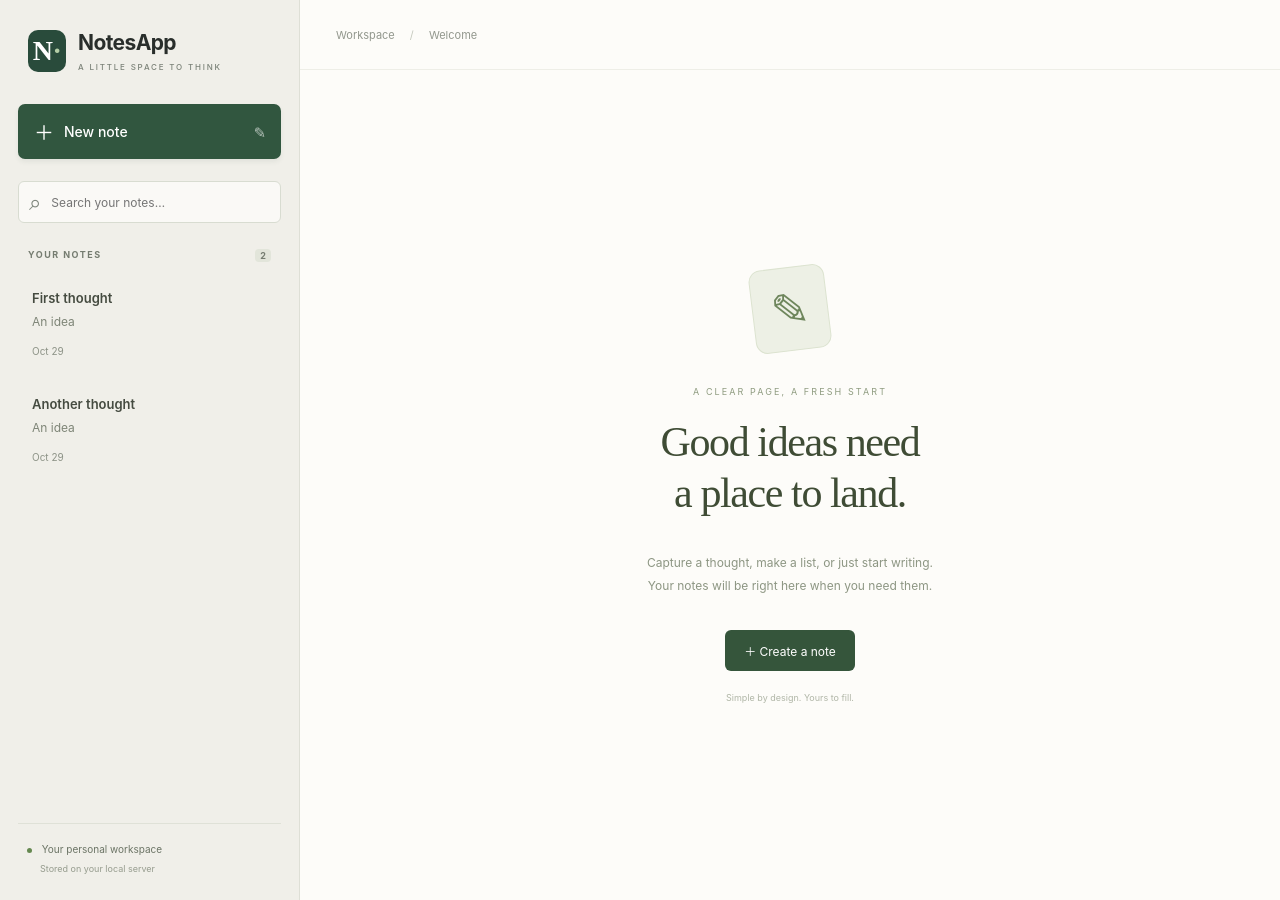
Test: Notes workspace › serializes edits made during a save and uses the returned version
Step 1. Click the button "First thought An idea Oct 29" → (72, 298), box [18,274,281,374]
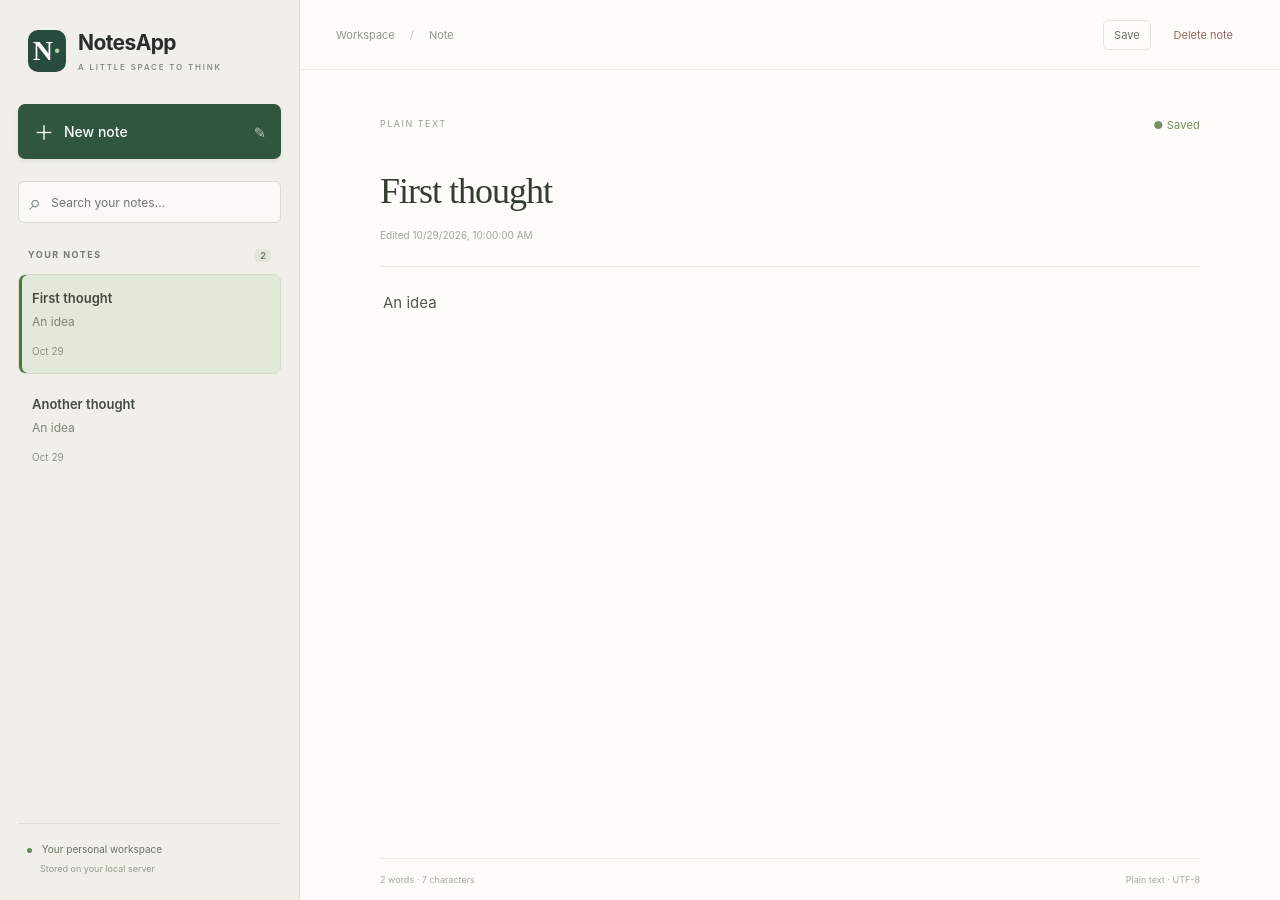
Step 2. Replace the text in the text box named "Note body" with "First edit" → (790, 574), box [380,289,1200,858]
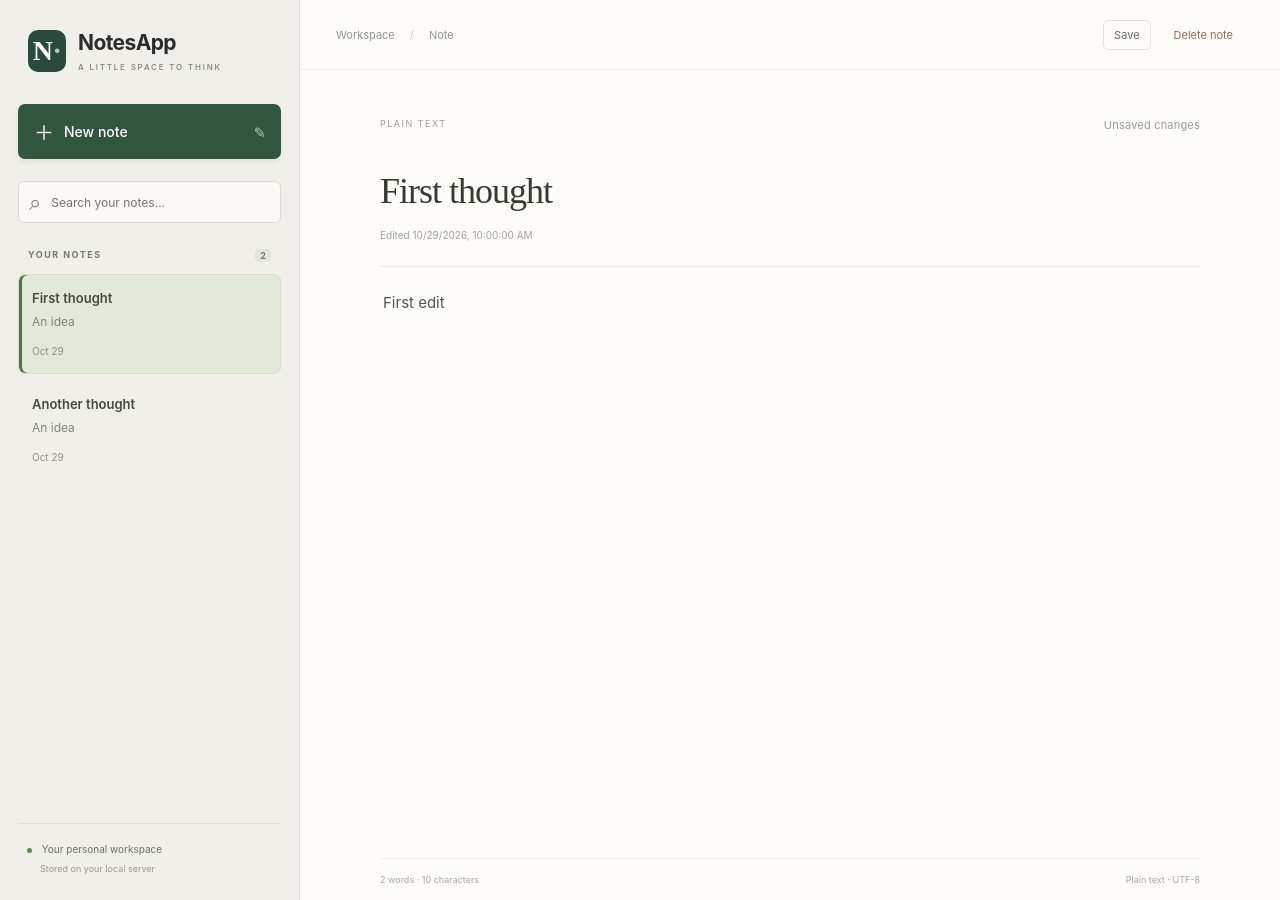
Step 3. Click the button "Save" → (1127, 34), box [1103,20,1151,50]
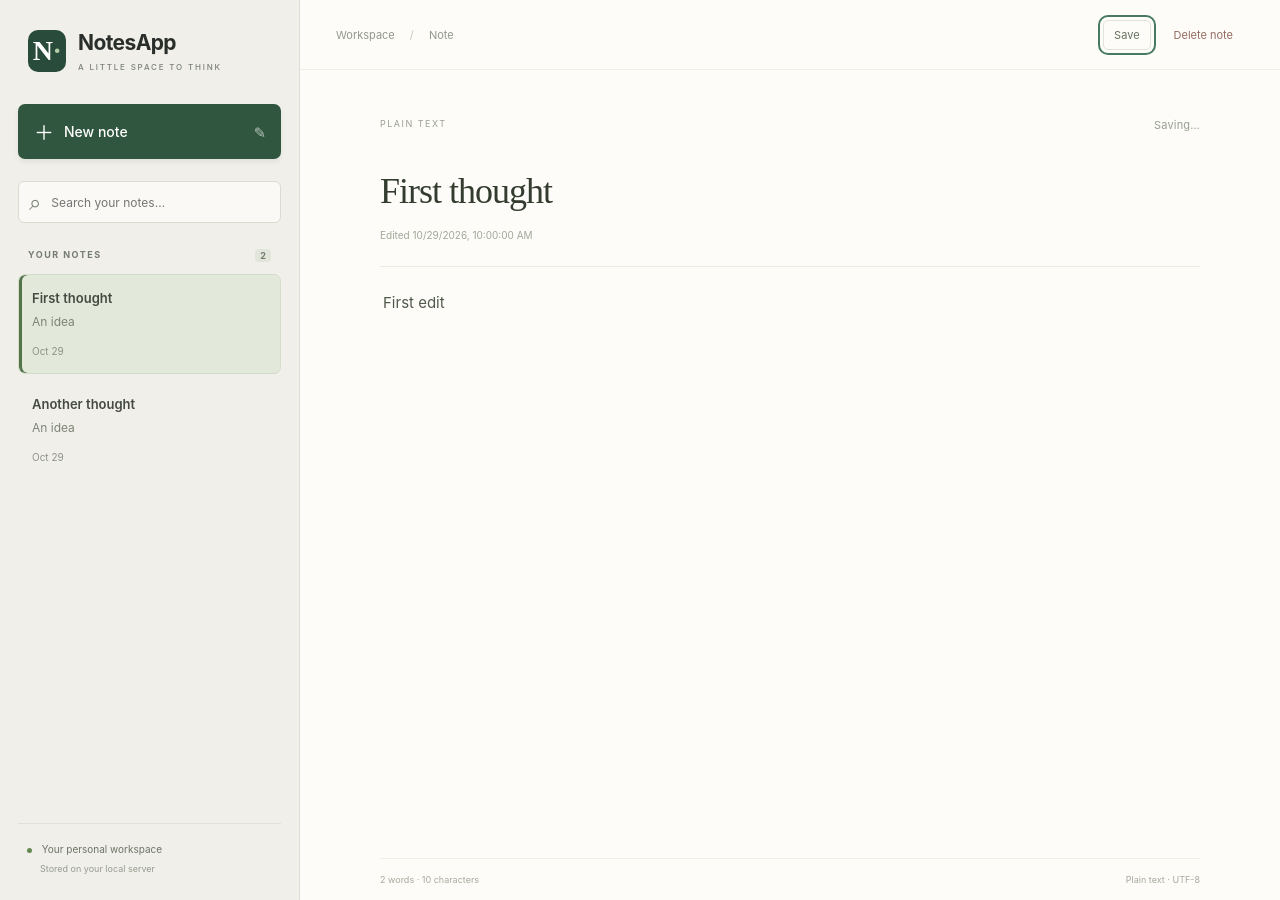
Step 4. Replace the text in the text box named "Note body" with "Second edit" → (790, 574), box [380,289,1200,858]
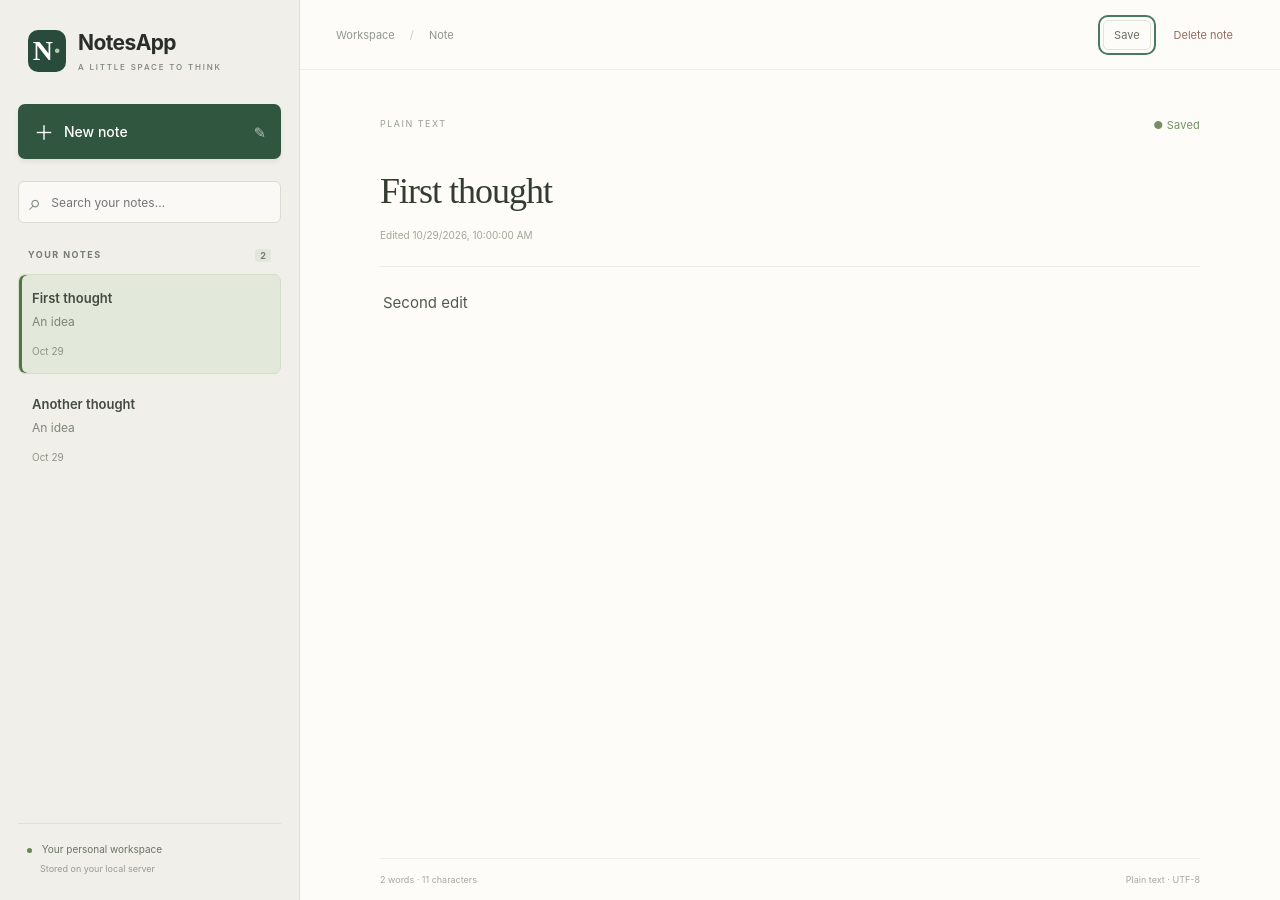
Expected: the text "● Saved" is shown, [1153,118,1200,132]
